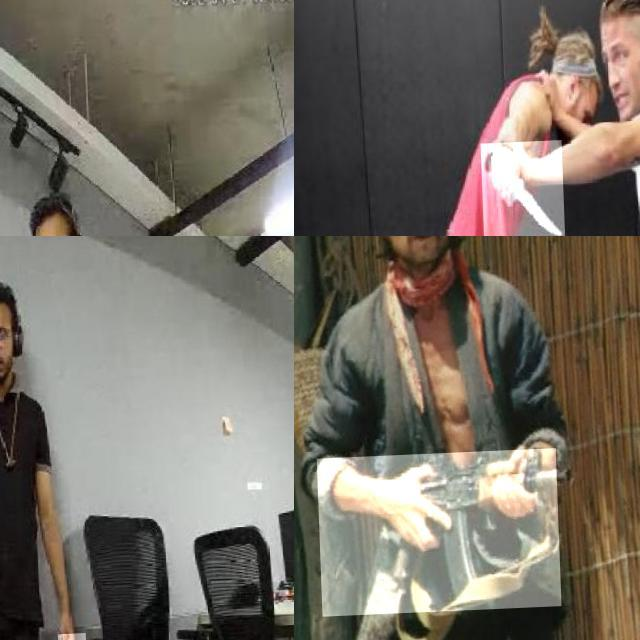-: (479, 142, 563, 236)
gun-knife-thesis - v11 Yolov5 augmented: (314, 452, 558, 618)
